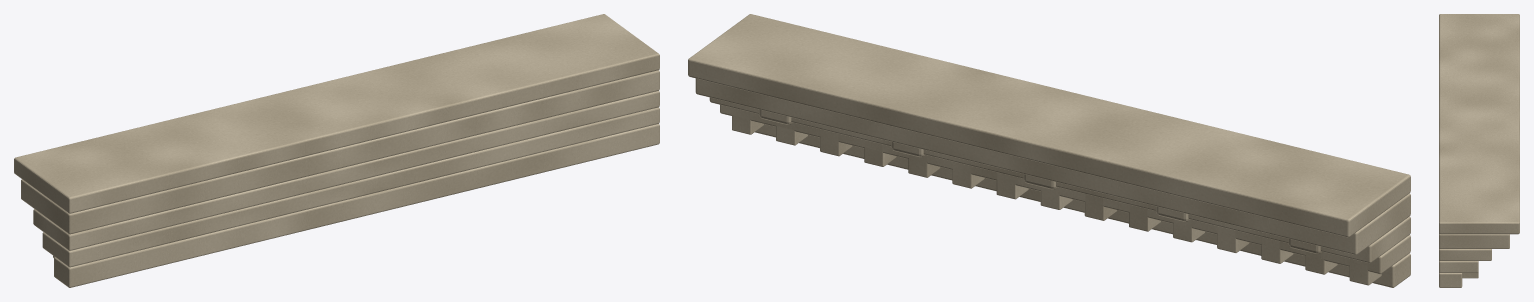
File: dentil-cornice.glb
3 views of the same model, side by side, from view 1: azimuth 30°, elevation 25°; view 2: azimuth 150°, elevation 25°; view 3: azimuth 270°, elevation 25° (orthographic). The views are drawn at different scales.
Parts seen in each view (by area): view 1: dentil-cornice; view 2: dentil-cornice; view 3: dentil-cornice.
Part boxes in pixels (left/top/right/bottom): dentil-cornice: left=14, top=14, right=659, bottom=287; dentil-cornice: left=688, top=14, right=1410, bottom=287; dentil-cornice: left=1439, top=14, right=1519, bottom=287.
Bounding box in the file's own units: 3 × 0.44 × 0.49.
Materials: 1 (1 with a texture image).
